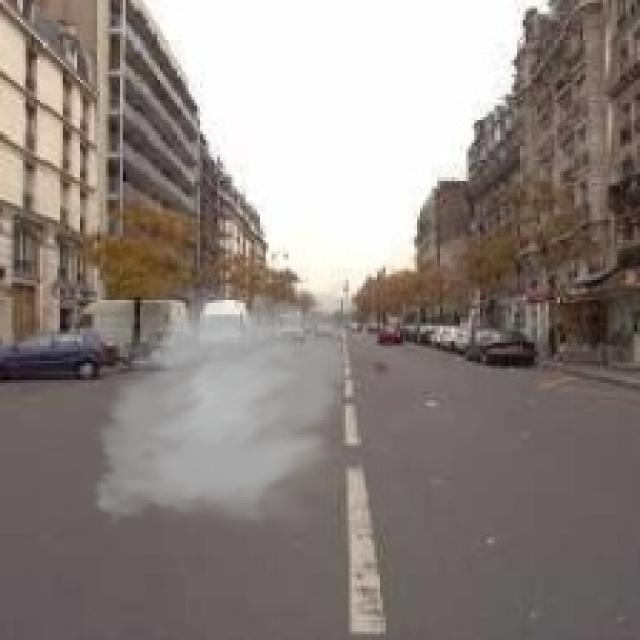smoke: (83, 271, 366, 543)
